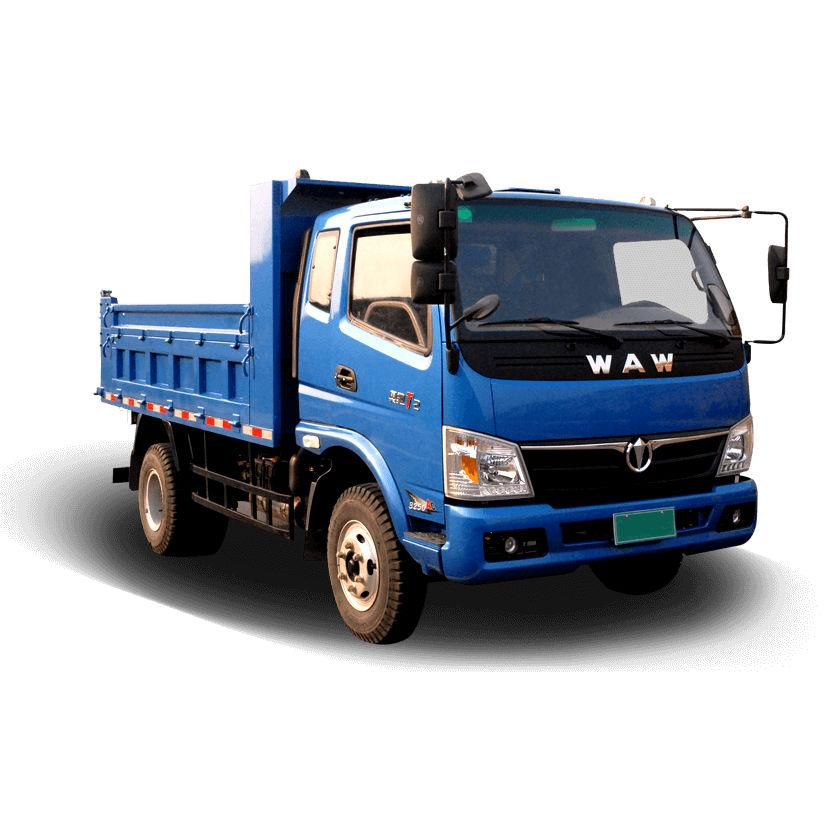truck: (82, 149, 797, 664)
